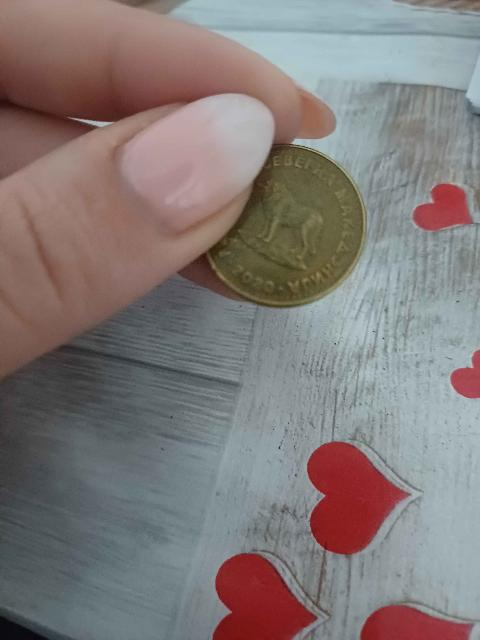1_coin: (207, 145, 365, 307)
